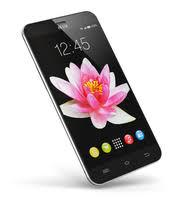Smartphone: (27, 11, 164, 187)
